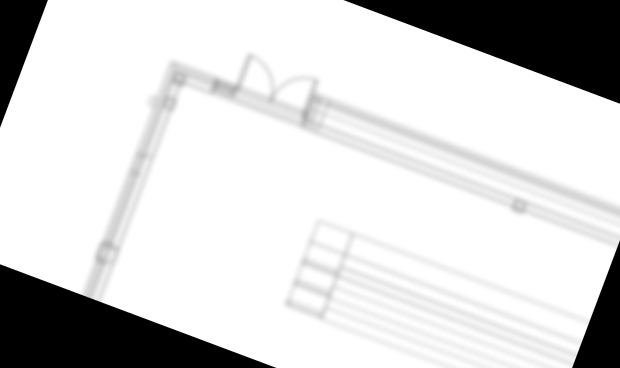double door: (231, 48, 323, 120)
